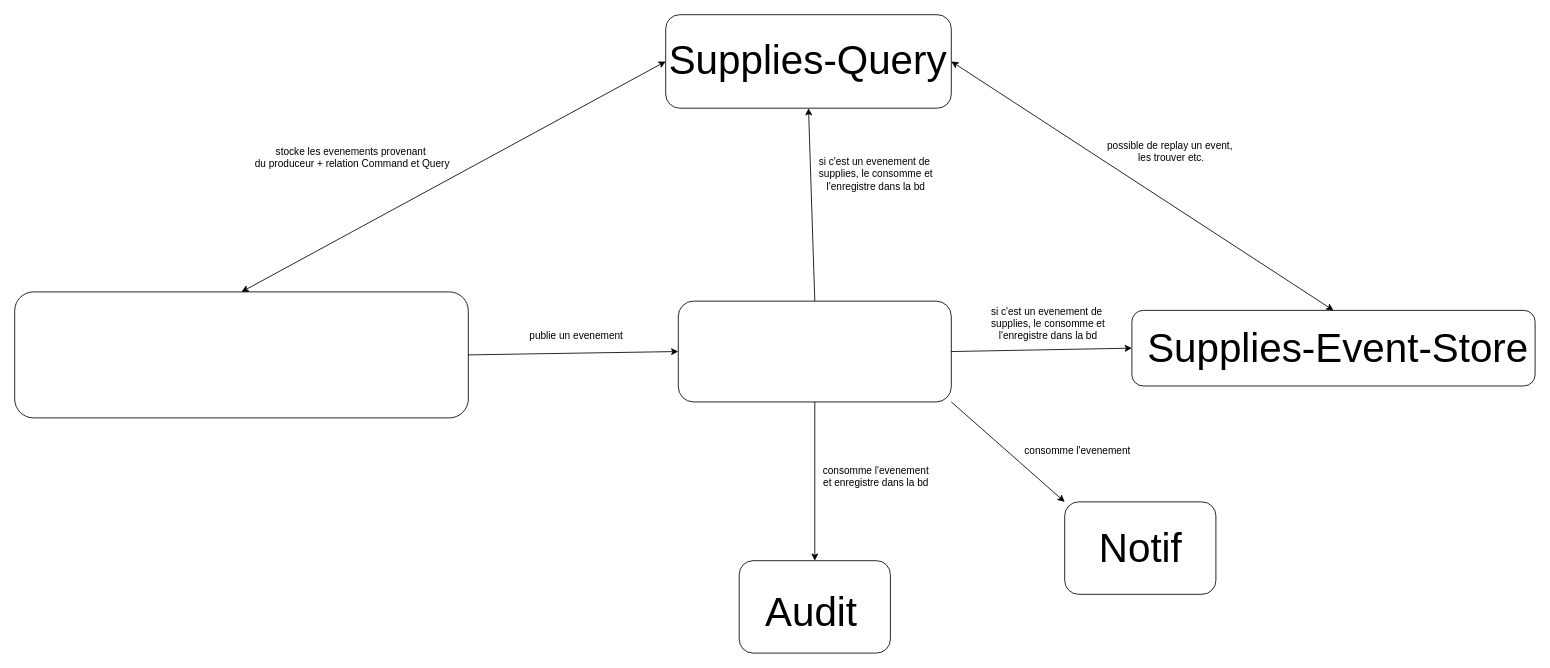
Image size: 1550x668. Some labels were removed from this diagram. The centre of each missing label's shape, as x and y in pixels:
"RabbitMQ" goes at pixel 814 351.
"Supplies (agit comme produceur et command)" goes at pixel 241 354.
